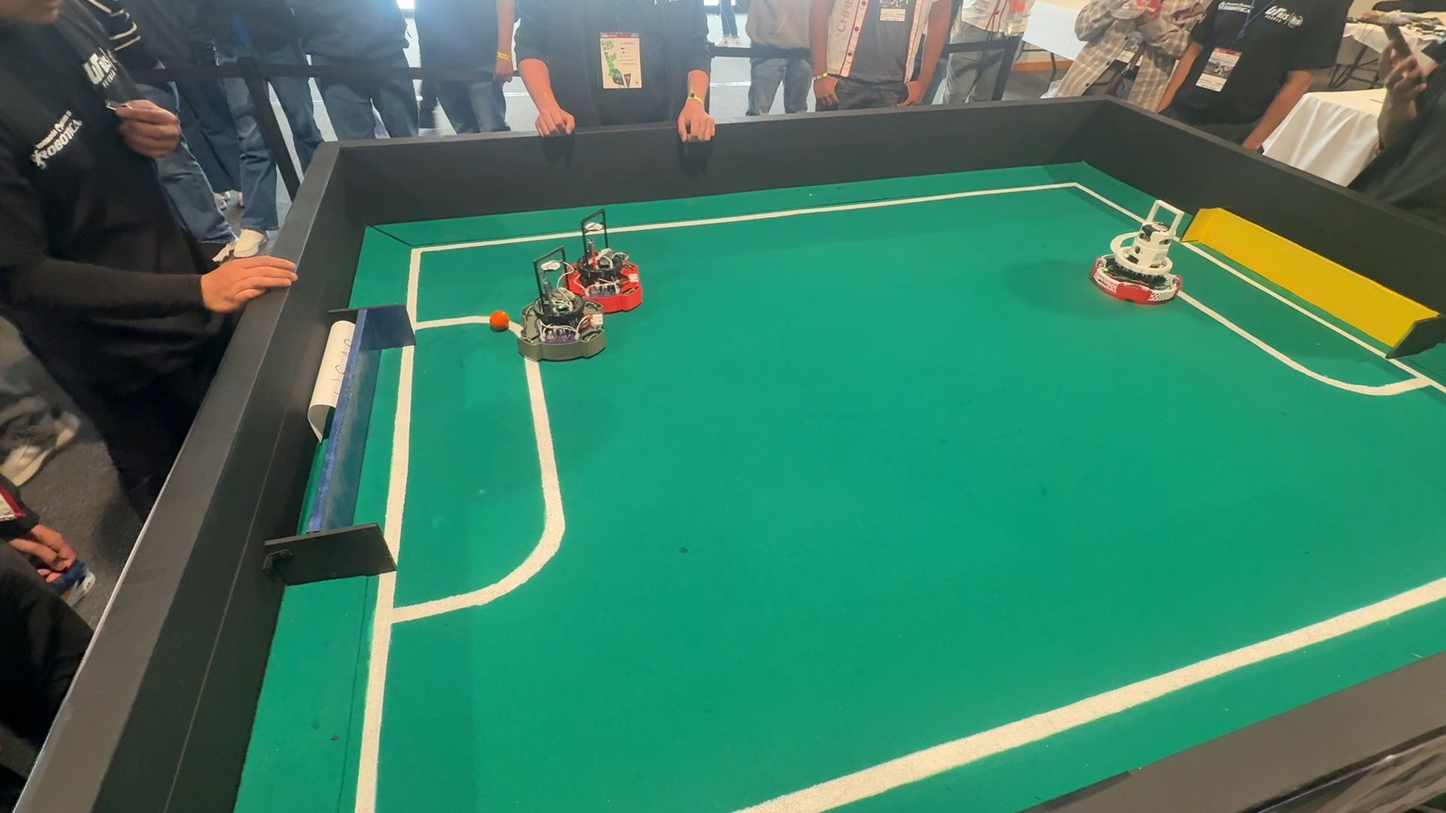Robot: (1076, 195, 1219, 317), (529, 214, 658, 315), (498, 273, 607, 361)
pelota: (487, 304, 512, 331)
